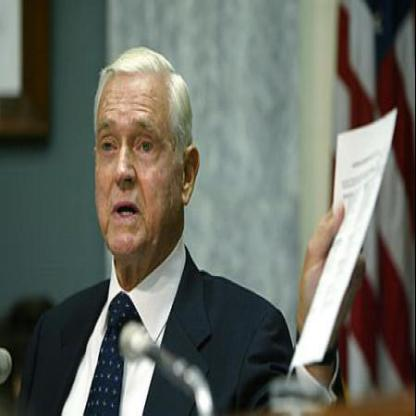face: (90, 54, 186, 268)
